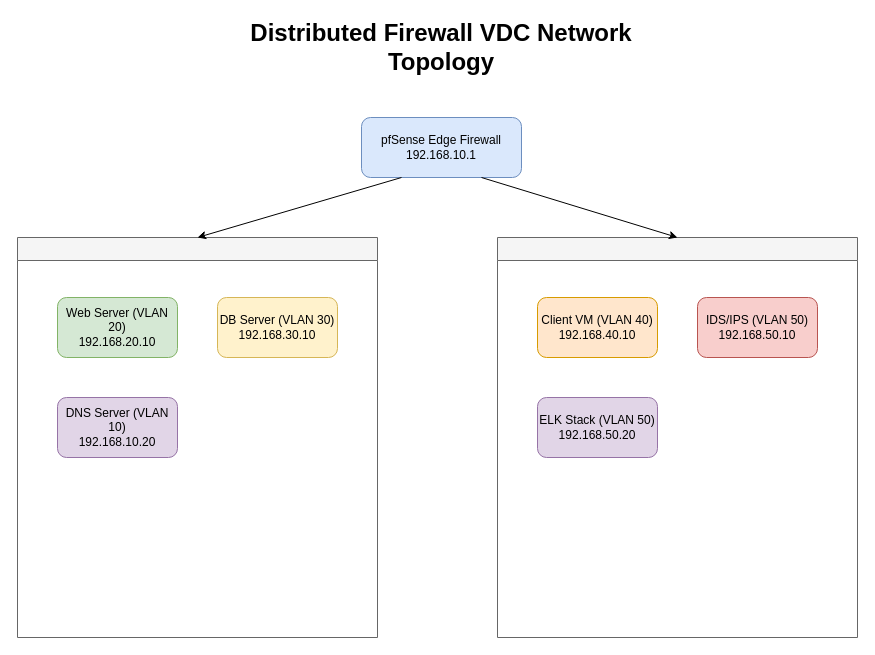
The diagram is 875 pixels wide and 655 high, and some of its shapes have lost their labels. Each missing label, with the box of its shape:
ESXi Host 1 (192.168.10.10): (16, 236, 378, 638)
ESXi Host 2 (192.168.10.11): (496, 236, 858, 638)
